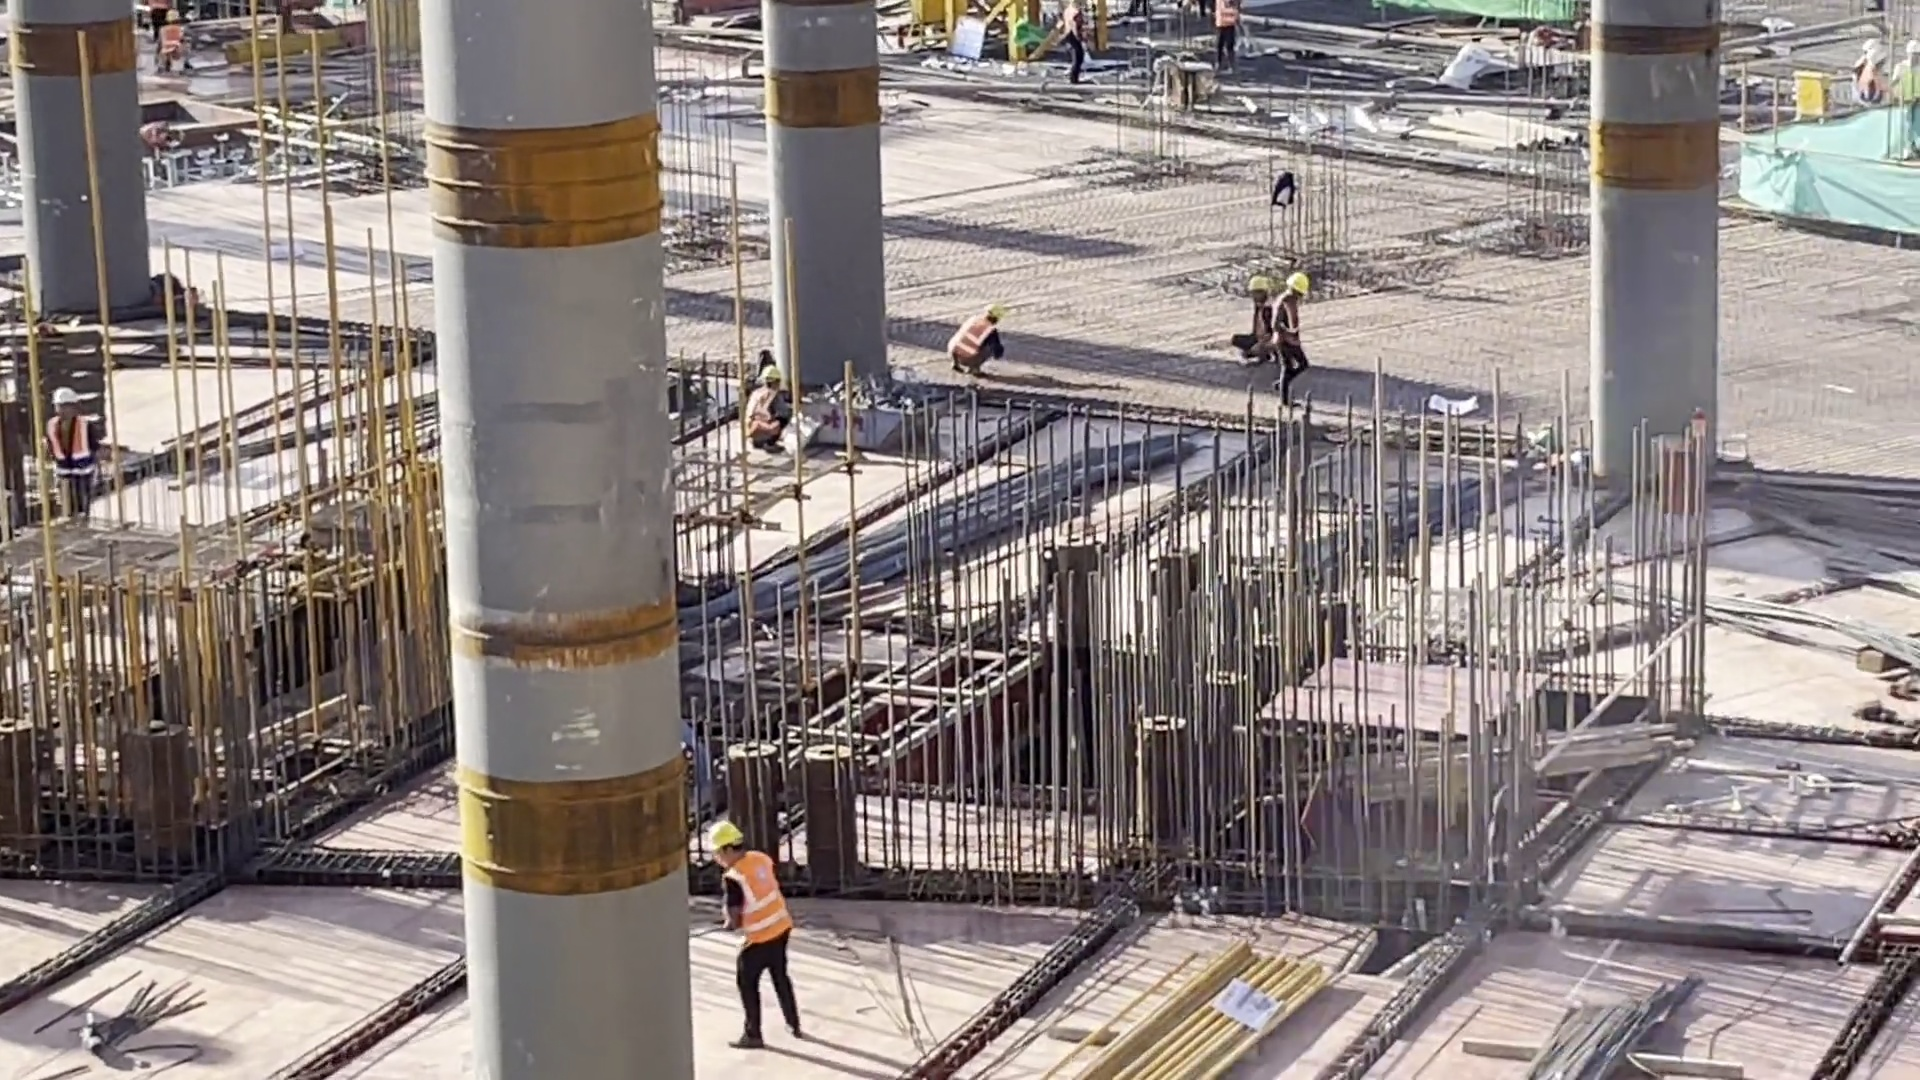helmet: (698, 808, 748, 857), (756, 350, 785, 393), (1281, 261, 1311, 294), (50, 382, 82, 411), (978, 298, 1000, 320)
person: (689, 816, 817, 1043), (1267, 258, 1328, 419), (37, 383, 104, 512), (943, 287, 1006, 389), (1859, 22, 1920, 124), (738, 341, 782, 456), (1236, 265, 1271, 361), (1056, 1, 1090, 87), (1209, 1, 1238, 72), (159, 4, 189, 74)
vest: (713, 863, 785, 935), (41, 419, 97, 471), (742, 382, 779, 429), (956, 313, 986, 359), (1253, 307, 1301, 335)
